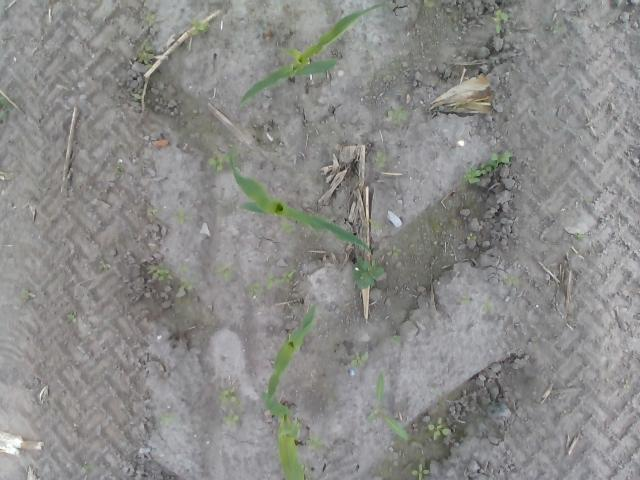Maize: (238, 0, 386, 110), (230, 156, 372, 253), (266, 301, 318, 396), (260, 390, 308, 480)
Weeds: (366, 371, 409, 440), (464, 150, 512, 184), (145, 261, 193, 290), (351, 256, 386, 292), (426, 415, 453, 442), (208, 149, 230, 172), (268, 272, 294, 290), (349, 348, 370, 370), (138, 40, 156, 64), (494, 9, 512, 33), (386, 108, 410, 125), (412, 462, 429, 480), (224, 412, 243, 428), (215, 263, 232, 280), (372, 151, 388, 169), (221, 388, 241, 402), (192, 19, 208, 34), (309, 434, 324, 450), (0, 99, 9, 122), (246, 281, 258, 298), (504, 274, 518, 287), (96, 258, 110, 271), (481, 301, 496, 313), (144, 10, 156, 24), (386, 244, 400, 256), (389, 334, 402, 345), (422, 0, 437, 9), (178, 209, 186, 225), (466, 232, 477, 241), (464, 296, 472, 303)
